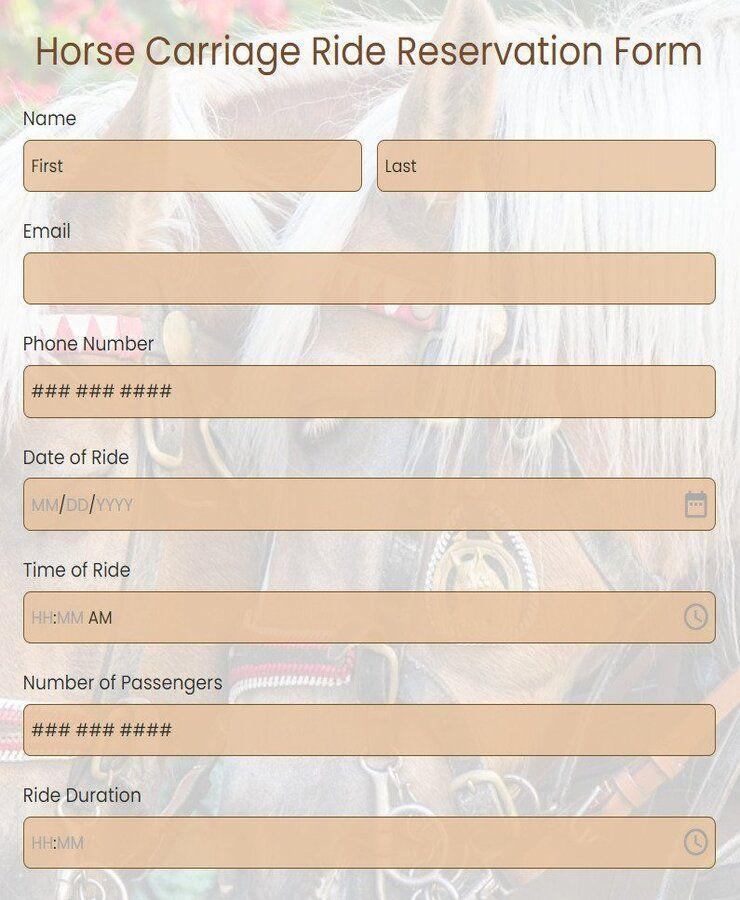input: (25, 591, 717, 646), (24, 816, 717, 870), (24, 479, 716, 533), (23, 704, 717, 757), (24, 367, 719, 419), (25, 253, 718, 304), (25, 139, 362, 194), (377, 141, 717, 192)
label: (21, 675, 226, 694), (23, 329, 160, 356), (23, 443, 138, 469), (22, 784, 146, 806), (23, 561, 136, 577), (22, 110, 82, 132), (24, 223, 79, 241)
